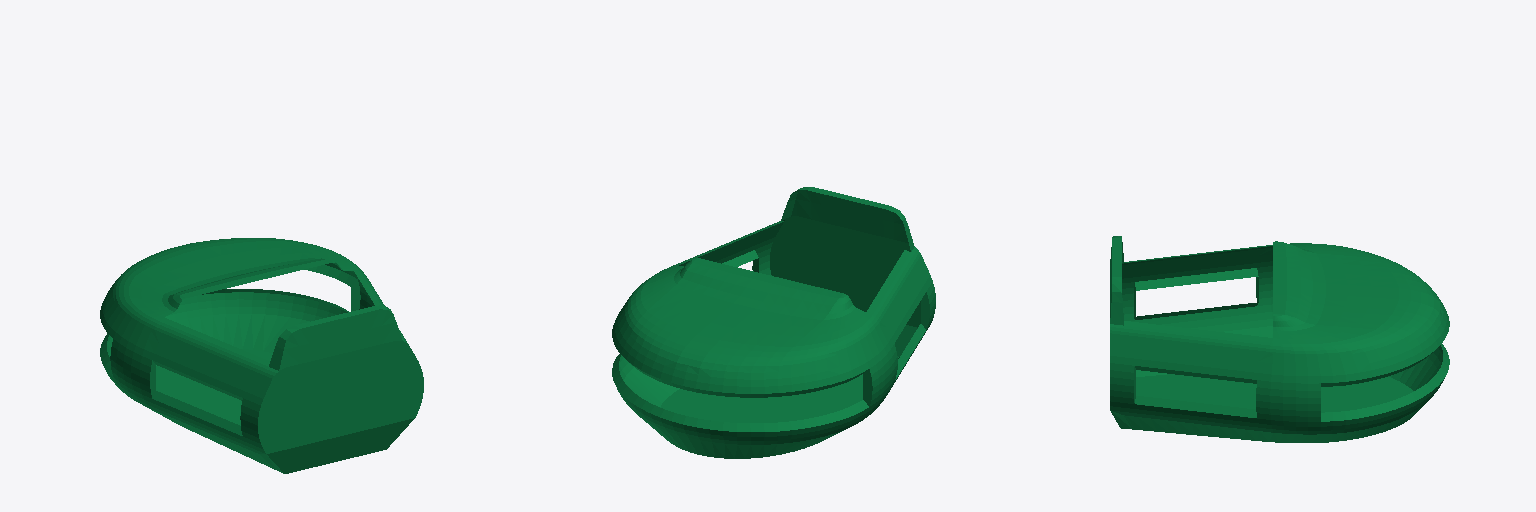
The model's file is player1.obj.
3 renders of one model, left to right at view 1: azimuth 30°, elevation 25°; view 2: azimuth 150°, elevation 25°; view 3: azimuth 270°, elevation 25°, orthographic.
Visible parts, largest first — view 1: Mesh1 Group1 Model; view 2: Mesh1 Group1 Model; view 3: Mesh1 Group1 Model.
Part boxes in pixels (left/top/right/bottom): Mesh1 Group1 Model: left=100, top=238, right=423, bottom=473; Mesh1 Group1 Model: left=612, top=187, right=935, bottom=458; Mesh1 Group1 Model: left=1110, top=236, right=1449, bottom=442.
Bounding box in the file's own units: 4 × 4.49 × 4.69.